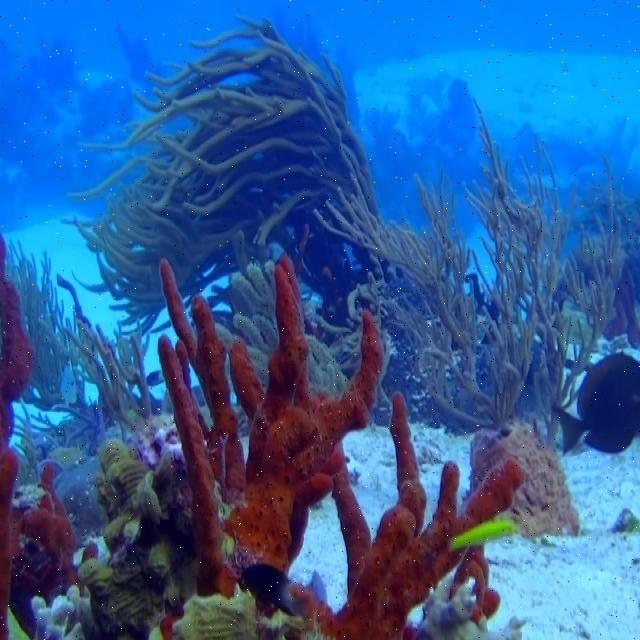aquatic plants: (314, 94, 627, 445), (60, 14, 378, 332)
fish: (558, 351, 639, 453), (239, 566, 296, 615), (453, 518, 518, 548)
reefs: (157, 254, 385, 597), (291, 392, 525, 637)
